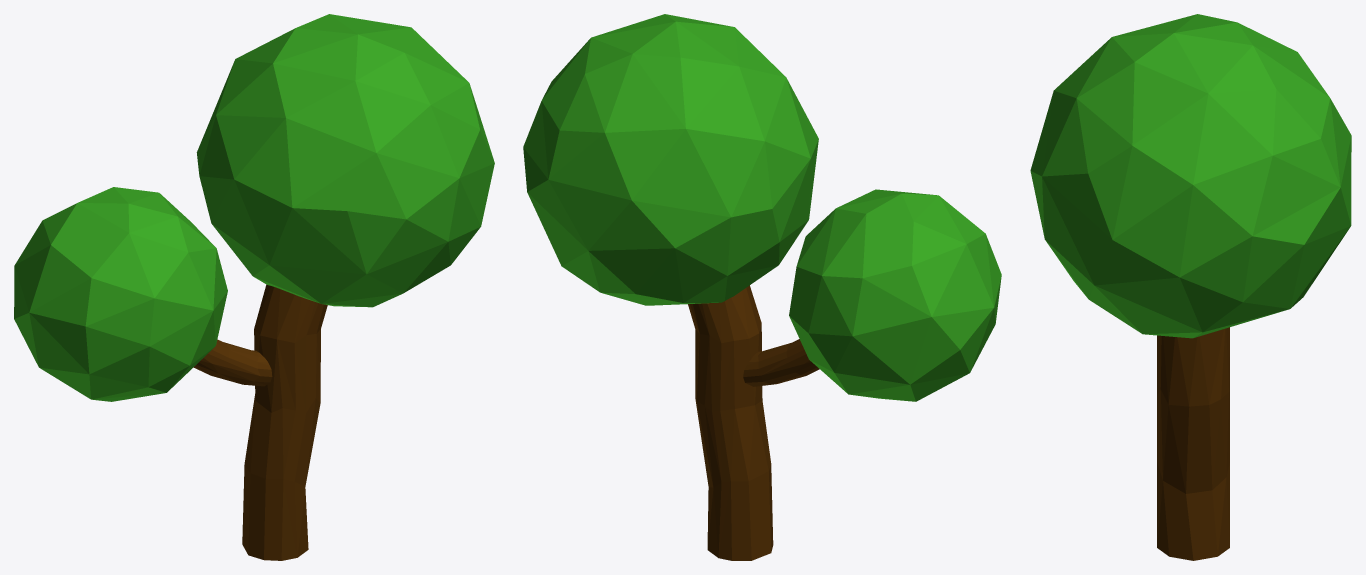
Rendered from Tree2.fbx.
The picture shows the model from 3 angles, left to right: view 1: azimuth 30°, elevation 25°; view 2: azimuth 150°, elevation 25°; view 3: azimuth 270°, elevation 25°; orthographic projection. The views are drawn at different scales.
Parts seen in each view (by area): view 1: Tree1; view 2: Tree1; view 3: Tree1.
Boxes of the visible parts, bbox=[...] form: Tree1: bbox=[14, 14, 494, 560]; Tree1: bbox=[523, 14, 1001, 560]; Tree1: bbox=[1030, 14, 1351, 560].
Bounding box in the file's own units: 771 × 831 × 439.
